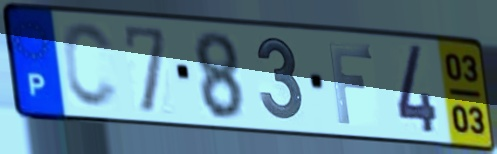3: (254, 34, 306, 126)
4: (393, 42, 440, 137)
7: (120, 22, 170, 117)
8: (189, 28, 246, 122)
C: (59, 20, 122, 113)
F: (324, 40, 375, 127)
